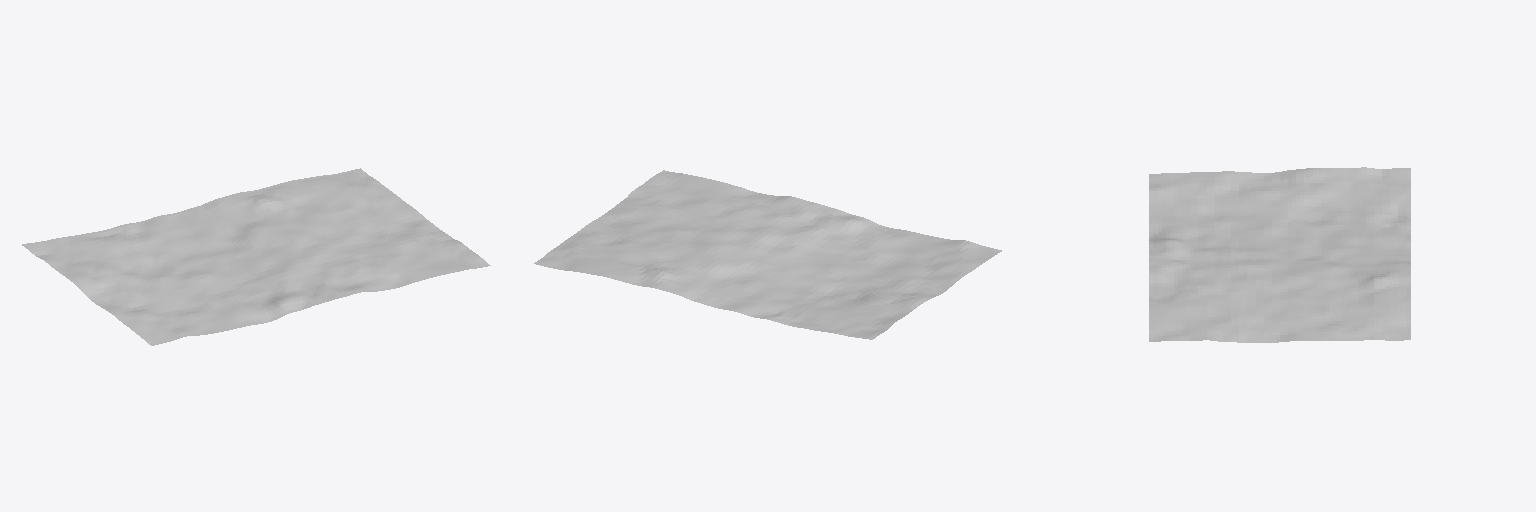
Rendered from maplayer.obj.
3 renders of one model, left to right at view 1: azimuth 30°, elevation 25°; view 2: azimuth 150°, elevation 25°; view 3: azimuth 270°, elevation 25°, orthographic.
Visible parts, largest first — view 1: EXPORT_GOOGLE_MAP_WM_EXPORT_GOOGLE_MAP_WM.003; view 2: EXPORT_GOOGLE_MAP_WM_EXPORT_GOOGLE_MAP_WM.003; view 3: EXPORT_GOOGLE_MAP_WM_EXPORT_GOOGLE_MAP_WM.003.
Boxes of the visible parts, x1,y1,x2,y2 form: EXPORT_GOOGLE_MAP_WM_EXPORT_GOOGLE_MAP_WM.003: [22, 168, 490, 345]; EXPORT_GOOGLE_MAP_WM_EXPORT_GOOGLE_MAP_WM.003: [534, 170, 1001, 339]; EXPORT_GOOGLE_MAP_WM_EXPORT_GOOGLE_MAP_WM.003: [1149, 167, 1410, 342].
Size of the model in its own units: 1834 by 59.84 by 1223.